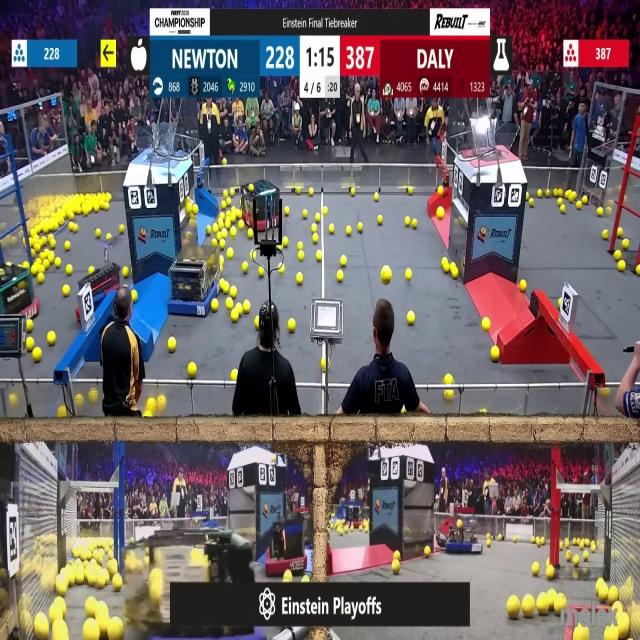ball_ground: (508, 596, 522, 619), (523, 597, 535, 619), (554, 596, 566, 614), (536, 598, 548, 616), (87, 598, 97, 618), (596, 582, 605, 602), (574, 628, 587, 640), (112, 575, 122, 590), (58, 582, 68, 597), (608, 588, 618, 603), (32, 348, 42, 362), (382, 268, 392, 282), (88, 572, 98, 586), (187, 362, 196, 376), (98, 573, 107, 587), (168, 338, 176, 353), (545, 566, 553, 580), (90, 389, 98, 403), (59, 408, 68, 420), (158, 396, 167, 408), (283, 570, 292, 582), (492, 347, 499, 362), (47, 333, 55, 346), (408, 312, 416, 325), (392, 561, 400, 574), (287, 319, 295, 332), (235, 301, 244, 312), (27, 338, 34, 352), (483, 318, 491, 330), (232, 310, 240, 322), (438, 208, 446, 220), (76, 572, 84, 584), (8, 394, 16, 406), (445, 375, 454, 385), (230, 286, 238, 297), (222, 284, 230, 295), (243, 302, 250, 314), (295, 274, 302, 286), (532, 563, 539, 575), (147, 398, 154, 410), (225, 300, 233, 310), (622, 240, 630, 250), (446, 390, 454, 400), (619, 262, 626, 273), (63, 285, 70, 296), (424, 545, 431, 556), (37, 274, 44, 285), (569, 190, 576, 201), (520, 280, 526, 292), (28, 320, 34, 332), (132, 290, 138, 302), (320, 358, 326, 370), (76, 394, 82, 406), (602, 388, 610, 397), (67, 266, 74, 276), (121, 268, 128, 278), (444, 264, 451, 274), (316, 251, 323, 261), (443, 256, 450, 266), (207, 224, 214, 234), (81, 207, 88, 217), (216, 221, 223, 231), (243, 263, 249, 274), (212, 301, 218, 312), (226, 248, 232, 259), (232, 368, 238, 379), (341, 255, 347, 266), (452, 269, 458, 280), (407, 270, 413, 281), (0, 568, 6, 579), (68, 574, 74, 585), (303, 574, 311, 582), (616, 251, 623, 260), (41, 264, 48, 273), (338, 272, 344, 282), (283, 238, 289, 248), (602, 231, 608, 241), (313, 234, 319, 244), (219, 240, 225, 250), (258, 268, 264, 278), (403, 216, 409, 226), (56, 258, 62, 268), (232, 229, 238, 239), (254, 317, 259, 329), (221, 230, 227, 240), (572, 556, 578, 566), (191, 205, 197, 215), (47, 252, 53, 262), (41, 238, 47, 248), (596, 208, 603, 216), (144, 412, 152, 419), (394, 552, 400, 561), (378, 215, 384, 224), (65, 242, 71, 251), (96, 230, 102, 239), (297, 251, 303, 260), (49, 240, 55, 249), (316, 213, 322, 222), (618, 229, 624, 238), (212, 239, 218, 248), (372, 194, 378, 203), (31, 266, 37, 275), (72, 222, 78, 231), (566, 554, 572, 563), (232, 214, 238, 223), (248, 230, 253, 240), (328, 223, 333, 233), (347, 224, 352, 234), (413, 218, 418, 228), (585, 552, 590, 562), (250, 250, 255, 260), (118, 224, 124, 232), (303, 210, 309, 218), (536, 189, 542, 197), (560, 206, 566, 214), (575, 202, 581, 210), (239, 220, 245, 228), (106, 192, 112, 200), (104, 203, 110, 211), (223, 220, 229, 228), (220, 202, 226, 210), (108, 552, 114, 560), (557, 199, 563, 207), (357, 222, 362, 231), (90, 267, 95, 276), (322, 208, 328, 215), (350, 188, 356, 195), (408, 187, 414, 194), (308, 188, 314, 195), (554, 188, 560, 195), (24, 263, 30, 270), (284, 207, 289, 215), (297, 242, 302, 250), (107, 234, 112, 242), (636, 266, 640, 276), (529, 200, 534, 208), (312, 223, 317, 231), (487, 539, 492, 547), (544, 188, 549, 196), (219, 256, 224, 264), (33, 242, 38, 250), (584, 198, 589, 205), (525, 191, 530, 198), (226, 199, 230, 207), (560, 541, 564, 549), (223, 190, 227, 198), (498, 534, 502, 541), (280, 268, 284, 275), (545, 559, 549, 566), (531, 536, 535, 543), (295, 187, 299, 194), (514, 536, 518, 542), (220, 212, 224, 218)
goal: (465, 121, 521, 160), (130, 128, 188, 160)
robot_blue: (120, 530, 208, 637), (170, 244, 218, 318), (439, 514, 482, 554)
robot_red: (266, 519, 308, 578), (238, 178, 280, 228), (0, 263, 36, 317), (346, 507, 367, 528)
